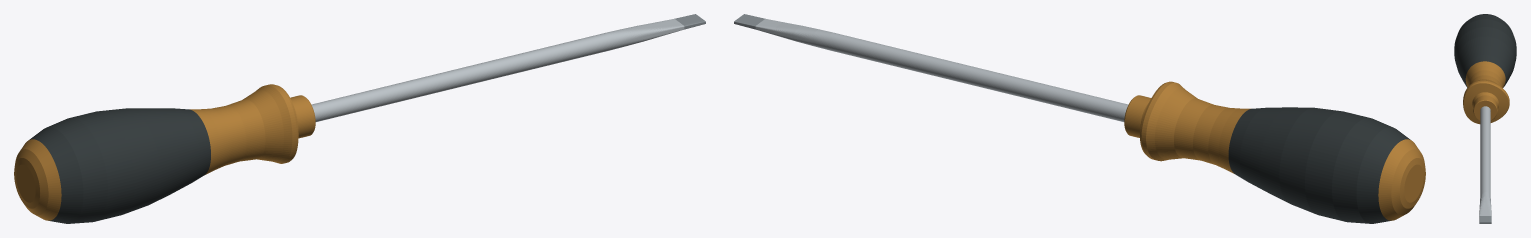
3 renders of one model, left to right at view 1: azimuth 30°, elevation 25°; view 2: azimuth 150°, elevation 25°; view 3: azimuth 270°, elevation 25°, orthographic. The views are drawn at different scales.
Visible parts, largest first — view 1: Substantial_polymer_grip_with_true_blind_bore, Continuous_round_steel_shaft_and_finite_slotted_tip; view 2: Substantial_polymer_grip_with_true_blind_bore, Continuous_round_steel_shaft_and_finite_slotted_tip; view 3: Substantial_polymer_grip_with_true_blind_bore, Continuous_round_steel_shaft_and_finite_slotted_tip.
Part boxes in pixels (x1=…): Substantial_polymer_grip_with_true_blind_bore: x1=14, y1=84, x2=315, y2=223; Continuous_round_steel_shaft_and_finite_slotted_tip: x1=311, y1=14, x2=705, y2=121; Substantial_polymer_grip_with_true_blind_bore: x1=1124, y1=81, x2=1425, y2=223; Continuous_round_steel_shaft_and_finite_slotted_tip: x1=734, y1=14, x2=1128, y2=121; Substantial_polymer_grip_with_true_blind_bore: x1=1454, y1=14, x2=1516, y2=124; Continuous_round_steel_shaft_and_finite_slotted_tip: x1=1479, y1=106, x2=1491, y2=223.
Size of the model in its own units: 0.299 by 0.041 by 0.041.
